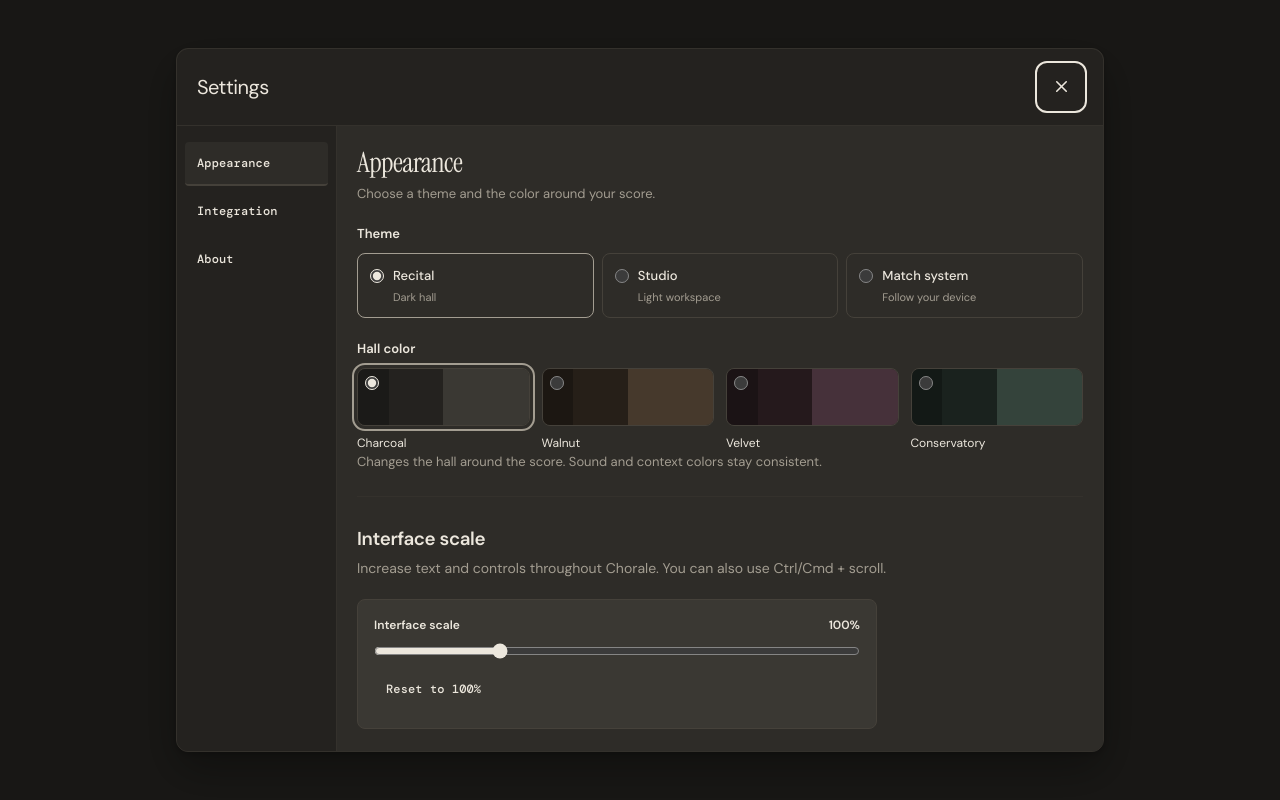
SettingsModal › displays application details in About tab
The image size is (1280, 800).
Click the tab "About". click: click(256, 260)
box: [185,238,328,282]
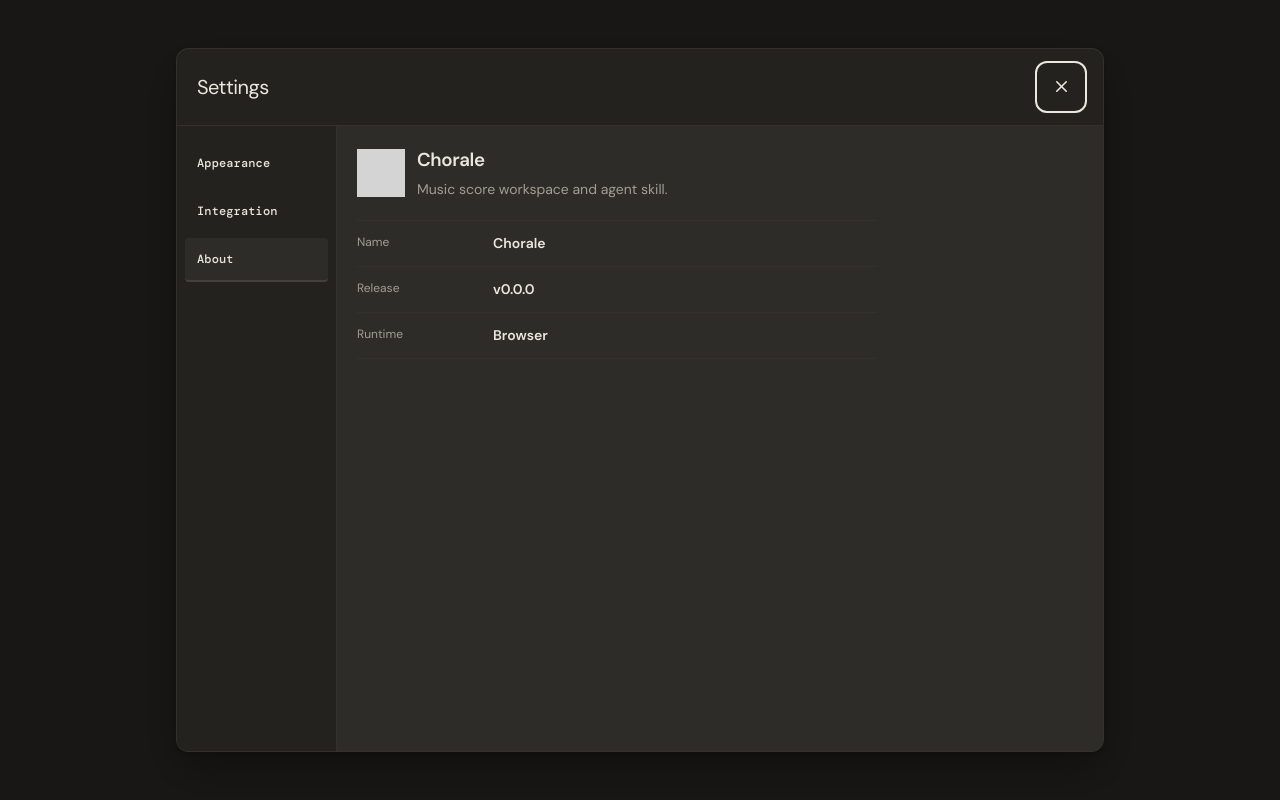
expect the panel named "About" shows "Chorale": met, box [417,147,485,172]
expect the panel named "About" shows "Music score workspace and agent skill.": met, box [417,180,668,198]
expect the text "Release" is shown: met, box [357,280,400,296]
